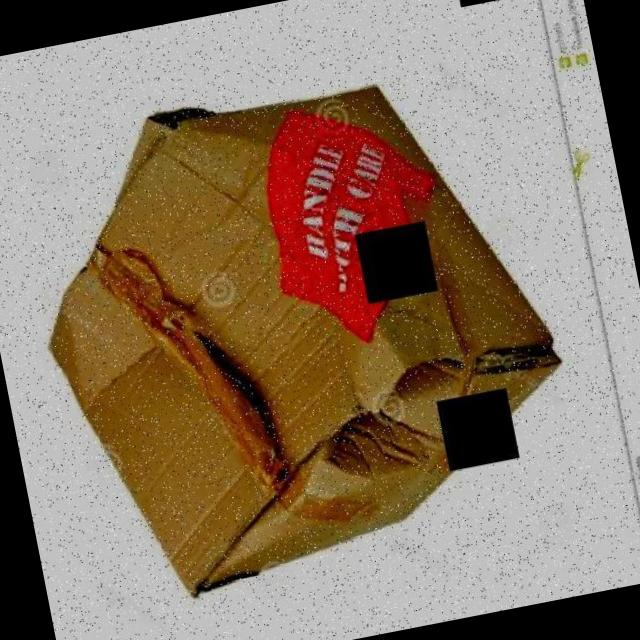box: (11, 42, 594, 613)
